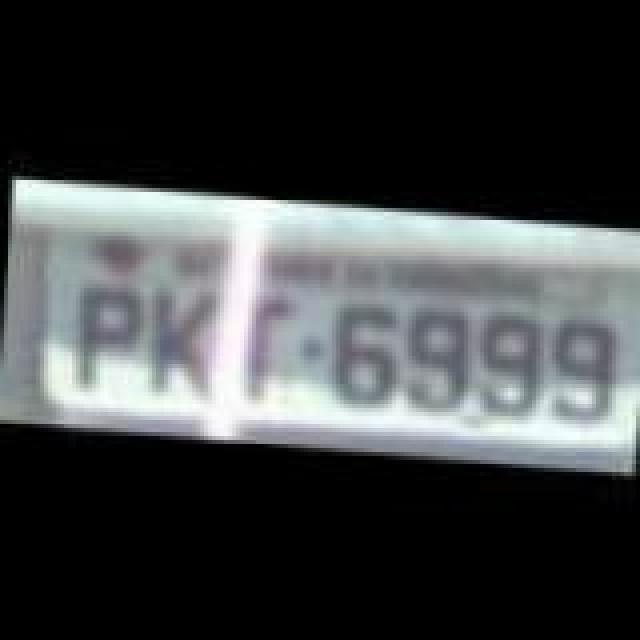6: (324, 288, 396, 412)
9: (542, 310, 614, 426), (398, 296, 466, 412), (468, 302, 536, 418)
K: (144, 280, 216, 404)
P: (70, 272, 138, 396)
T: (230, 282, 298, 410)
